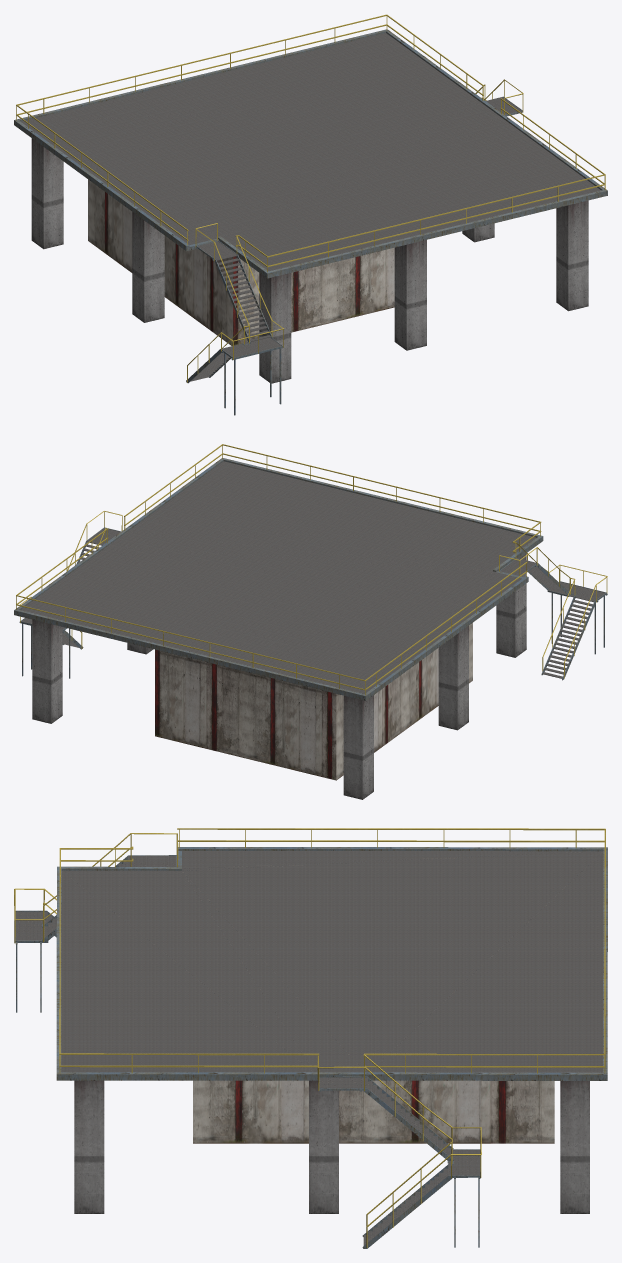
Rendered from IndustrialTower01Floor01.FBX.
The picture shows the model from 3 angles, top to bottom: view 1: azimuth 30°, elevation 25°; view 2: azimuth 150°, elevation 25°; view 3: azimuth 270°, elevation 25°; orthographic projection. The views are drawn at different scales.
Visible parts, largest first — view 1: IndustrialTower01abc, IndustrialTower01f, IndustrialTower01e, IndustrialTower01d; view 2: IndustrialTower01abc, IndustrialTower01e, IndustrialTower01f, IndustrialTower01d; view 3: IndustrialTower01abc, IndustrialTower01e, IndustrialTower01f, IndustrialTower01d.
Boxes of the visible parts, x1,y1,x2,y2 form: IndustrialTower01abc: (14, 29, 607, 415); IndustrialTower01f: (31, 138, 588, 383); IndustrialTower01e: (88, 179, 394, 345); IndustrialTower01d: (16, 14, 605, 382); IndustrialTower01abc: (14, 458, 607, 700); IndustrialTower01e: (155, 623, 472, 780); IndustrialTower01f: (32, 553, 526, 799); IndustrialTower01d: (16, 444, 607, 695); IndustrialTower01abc: (15, 847, 607, 1248); IndustrialTower01e: (193, 1080, 554, 1143); IndustrialTower01f: (74, 1080, 589, 1213); IndustrialTower01d: (14, 828, 605, 1247).
Size of the model in its own units: 1232 by 362 by 1162.
